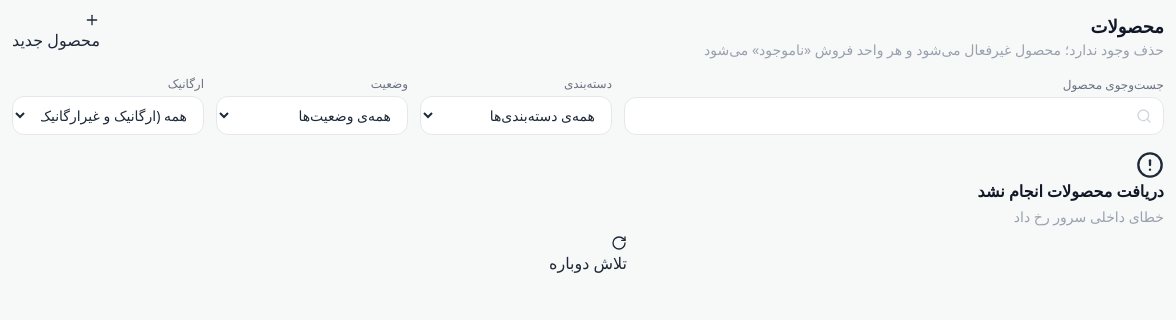
Test: ProductsManager — list › error state shows the message and retry reloads
Expected: the heading "دریافت محصولات انجام نشد" is shown, [978, 180, 1164, 202]
Expected: the text "خطای داخلی سرور رخ داد" is shown, [1014, 207, 1164, 226]
Click the button "تلاش دوباره".
click(588, 255)  # box [549, 235, 627, 275]
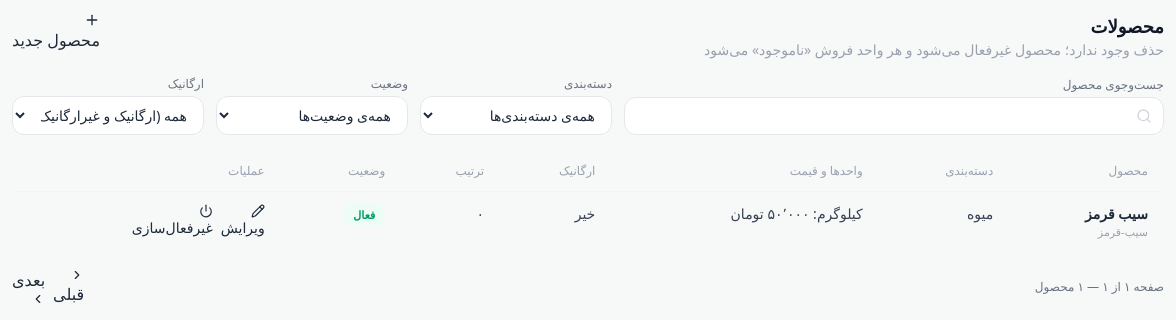
Expected: the table is shown, [12, 151, 1164, 252]
